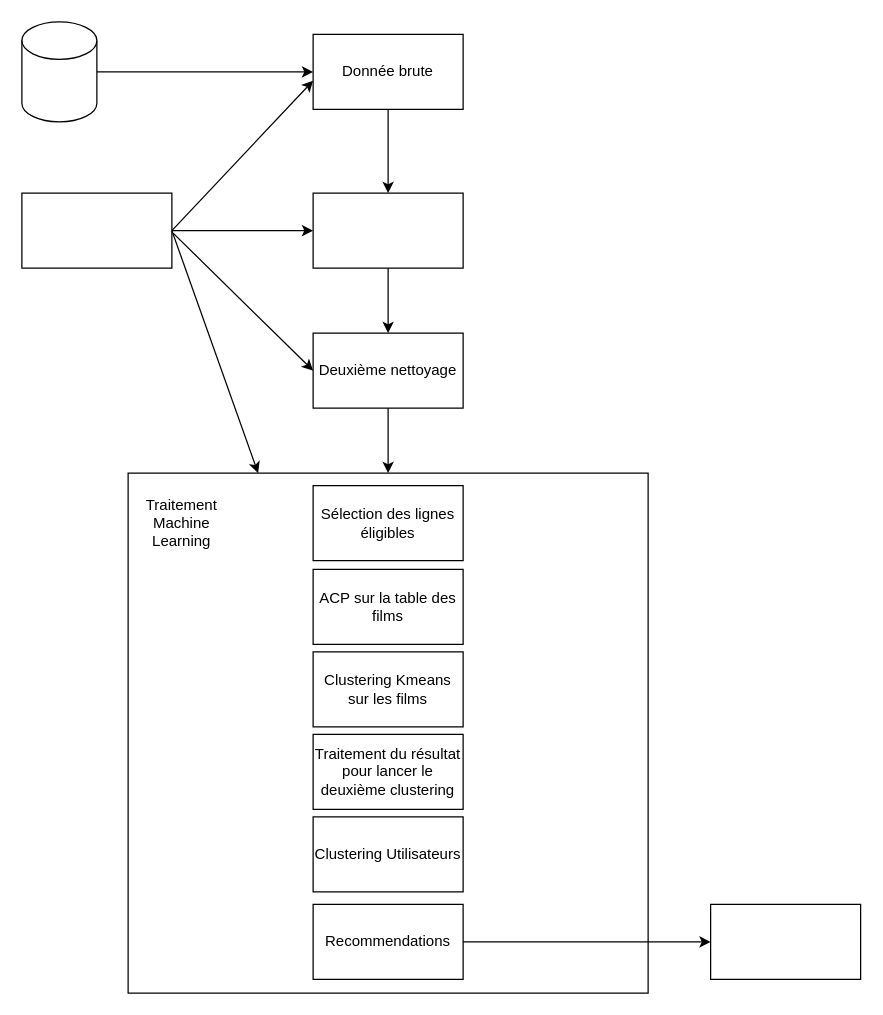
The diagram is 883 pixels wide and 1015 high, and some of its shapes have lost their labels. Here are the shapes that lost their labels. From the top down, the centre of each, then its label:
At [59,71]: "HDFS".
At [96,230]: "Path variables".
At [387,230]: "Premier nettoyage".
At [785,941]: "Sortie CSV d'une liste de recommendations".
